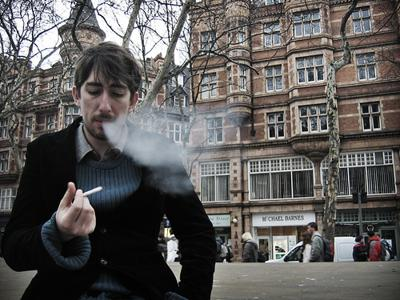person: (6, 40, 218, 298)
